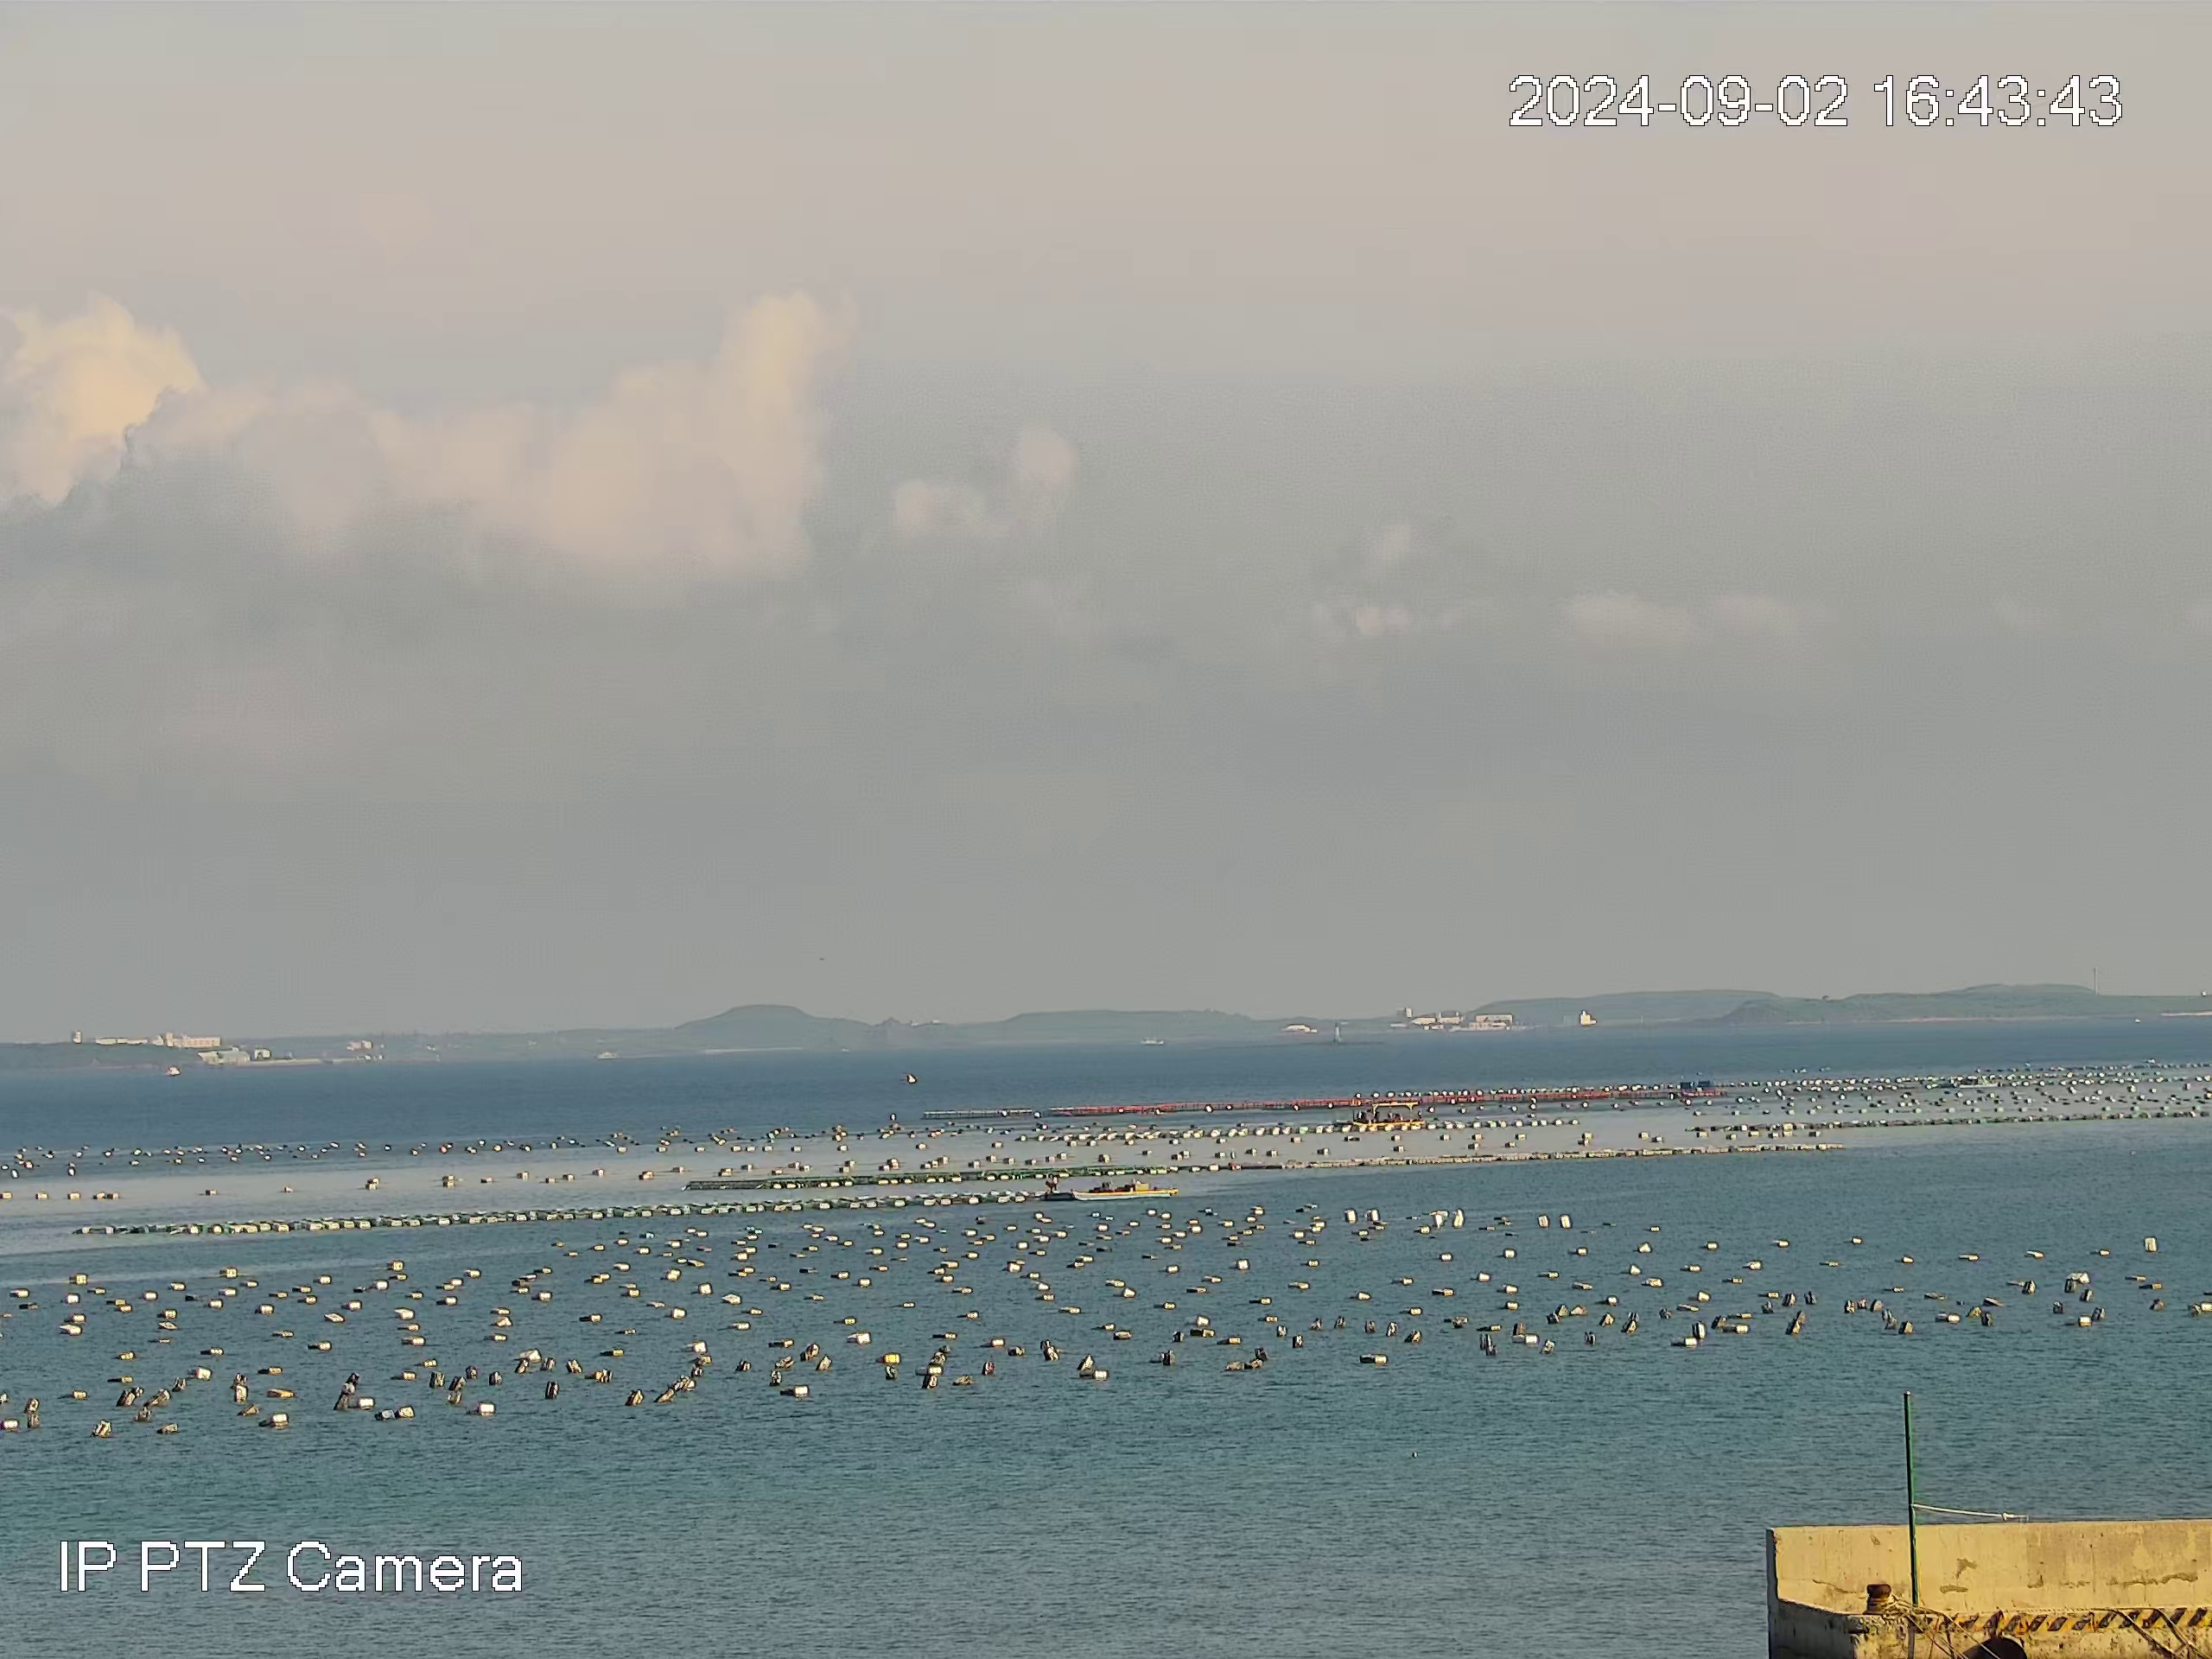boat: (1039, 1173, 1180, 1200), (1347, 1101, 1426, 1128), (1958, 1073, 2000, 1090)
